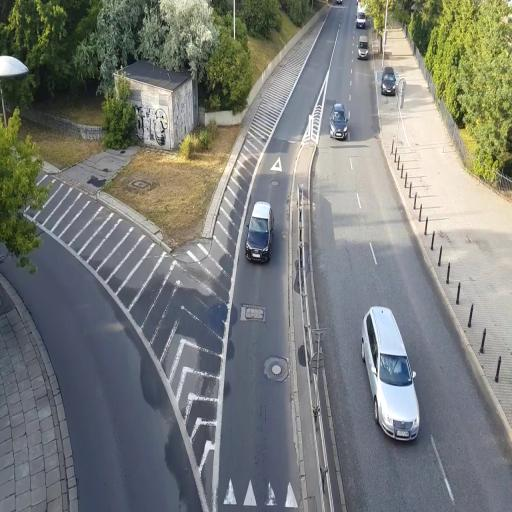vehicle: (360, 304, 420, 442), (245, 201, 273, 264), (330, 103, 348, 139), (380, 67, 398, 96), (357, 36, 370, 59)
